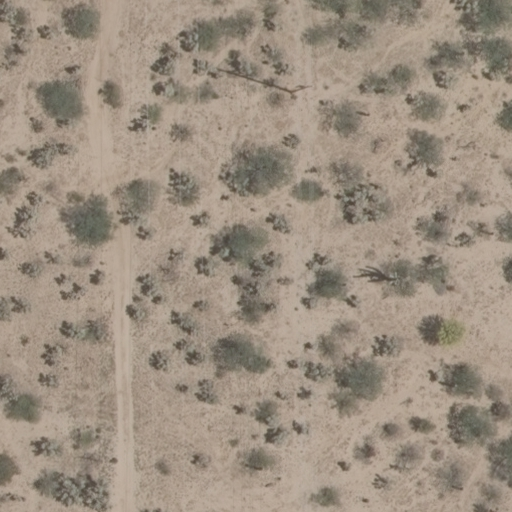DT: (284, 78, 316, 100)
